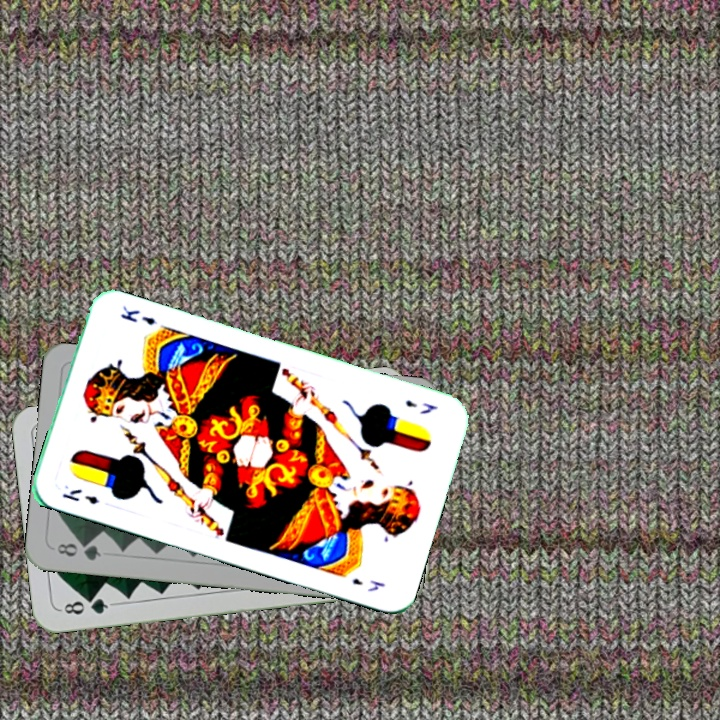EK: (58, 485, 102, 507), (401, 395, 440, 417)
G8: (57, 593, 116, 618), (53, 538, 103, 563)
